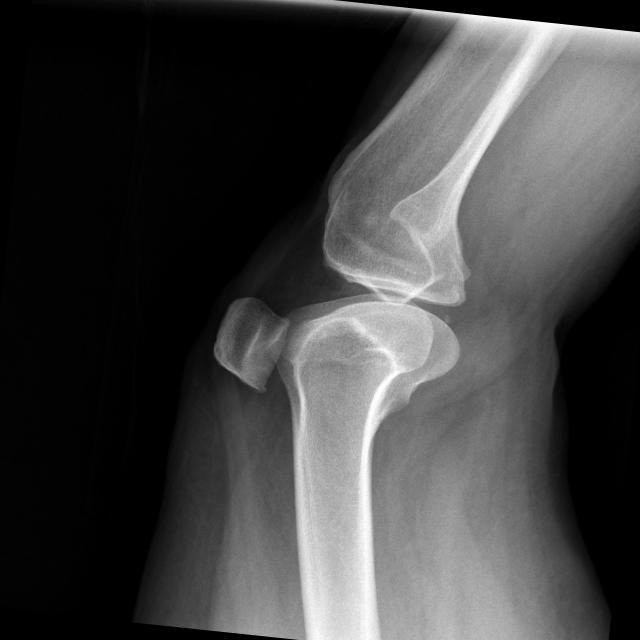Knee: (208, 213, 476, 416)
